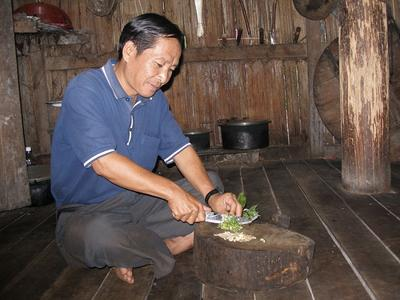person: (50, 12, 245, 283)
